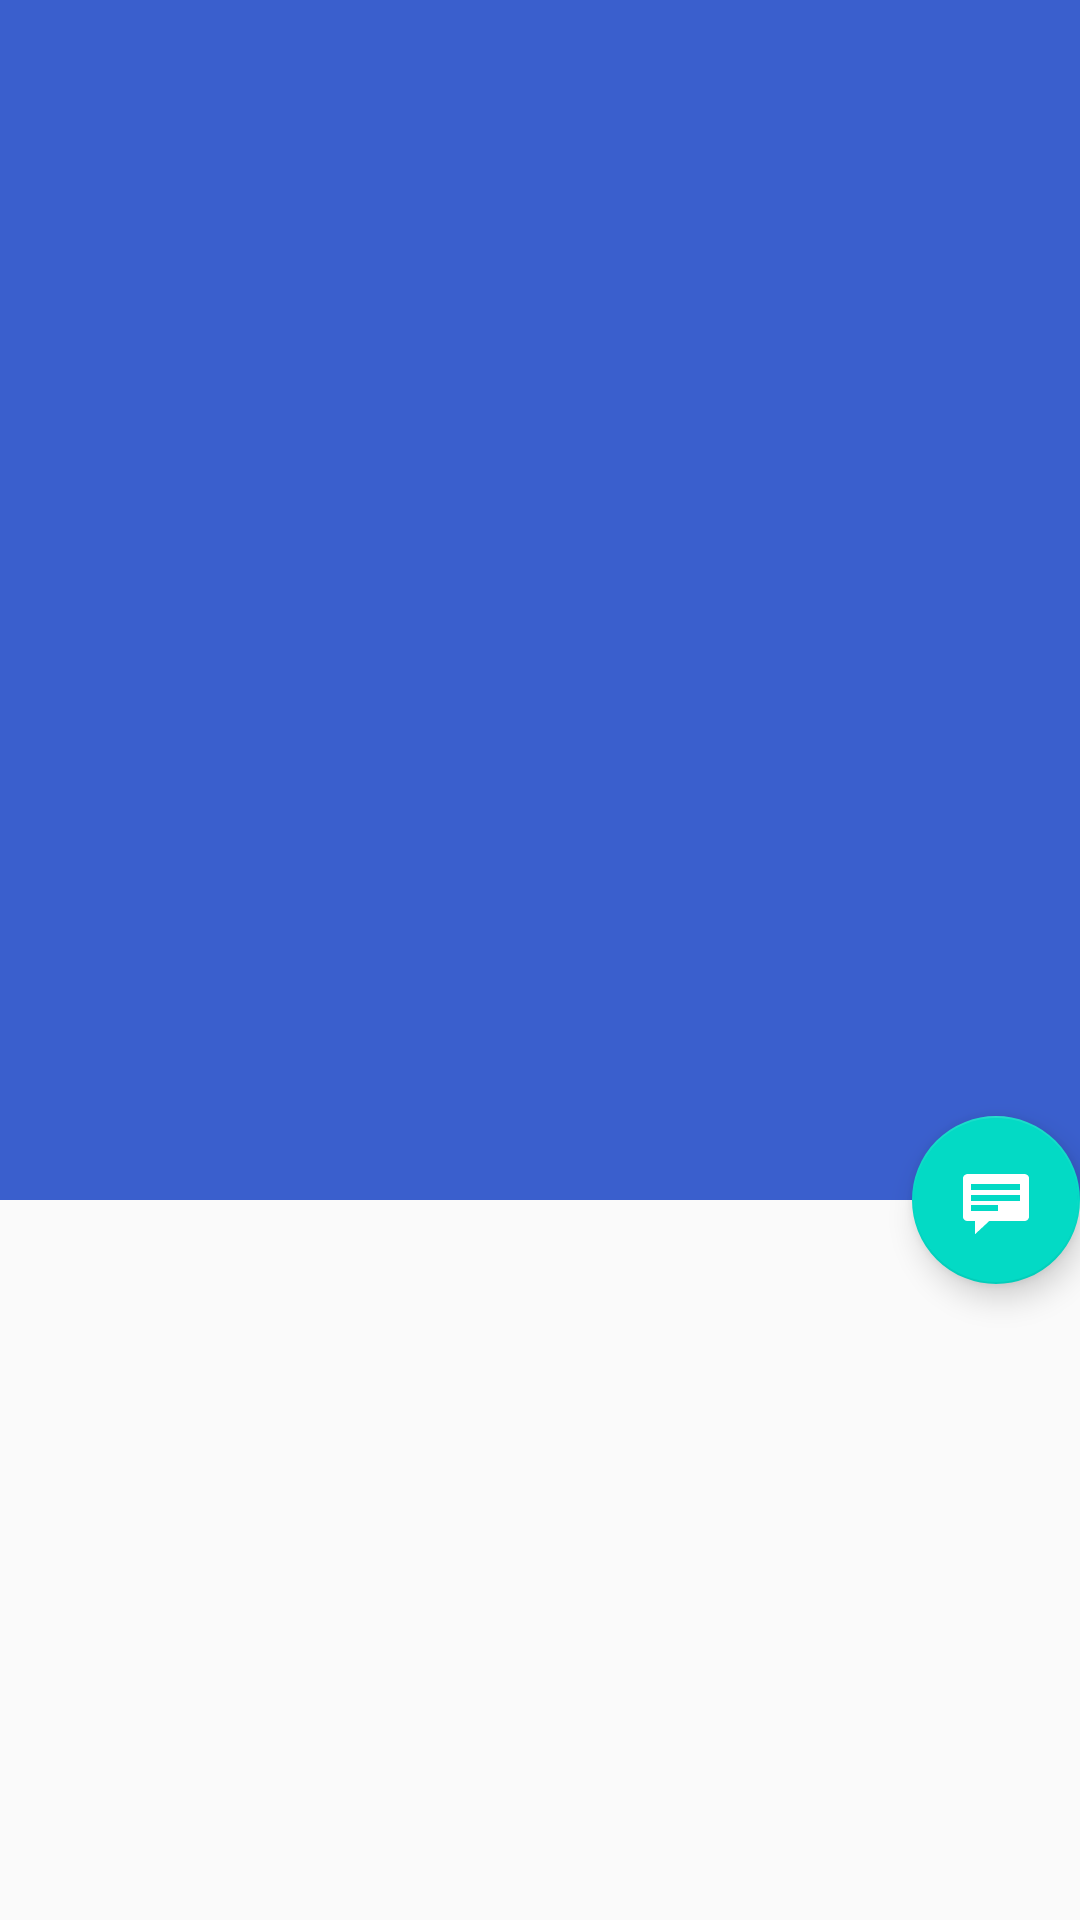

Screen size 1080w x 1920h. Icon name, then its center in pixels as (x,y):
chat: (996,1200)
